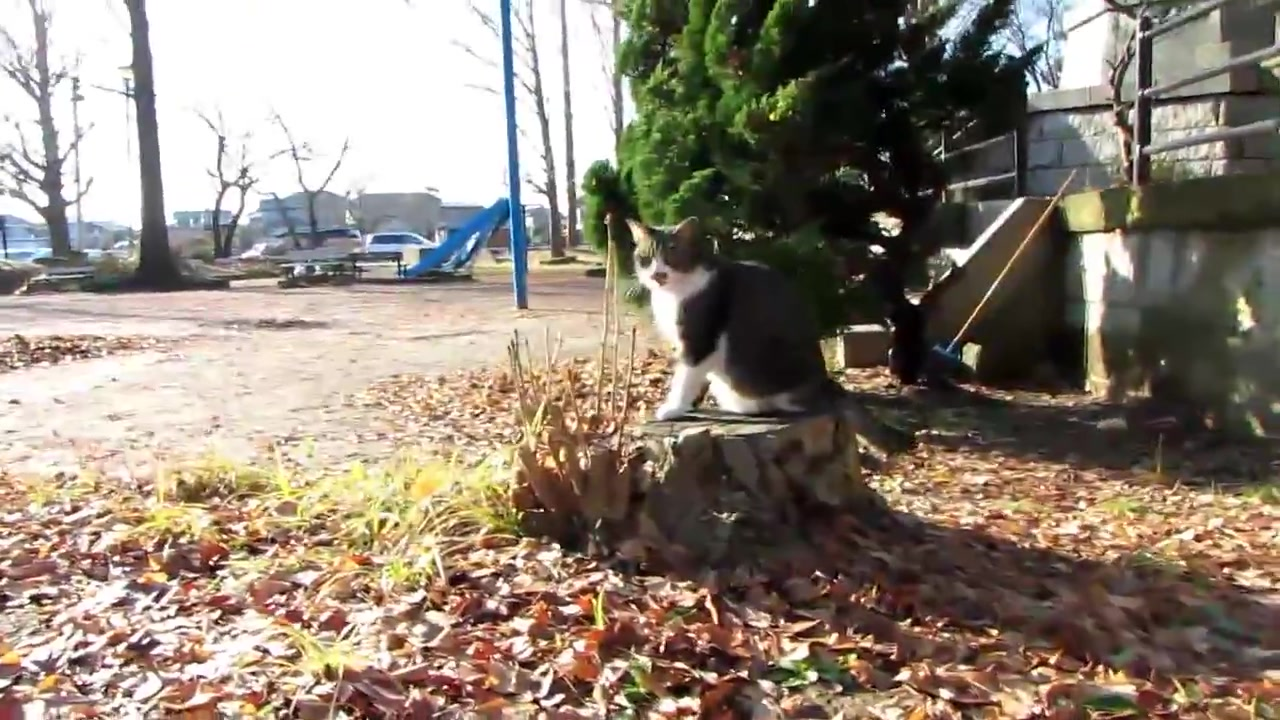cat: (627, 218, 922, 460)
